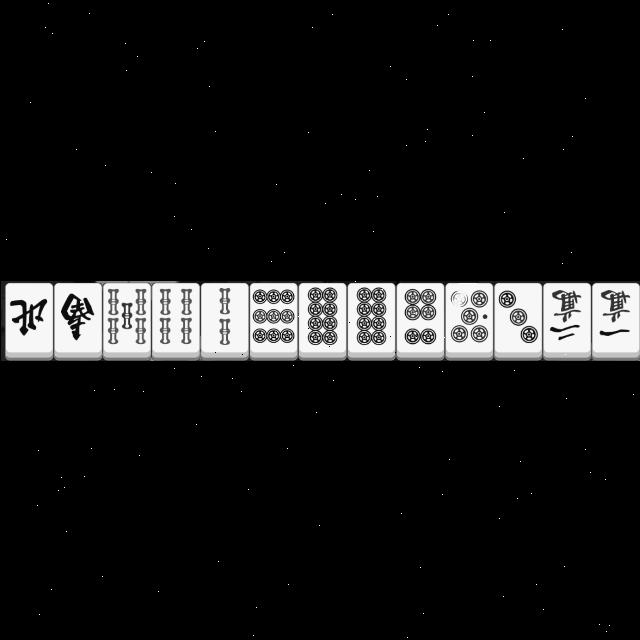2m: (543, 282, 589, 350)
2s: (200, 282, 248, 348)
3m: (592, 282, 640, 351)
3p: (494, 284, 542, 348)
4s: (152, 280, 200, 350)
5p: (446, 282, 492, 352)
5s: (104, 282, 150, 350)
6p: (395, 280, 445, 350)
8p: (346, 283, 394, 351), (298, 282, 344, 351)
9p: (248, 282, 296, 351)
nan: (54, 280, 100, 350)
pe: (6, 283, 52, 353)
